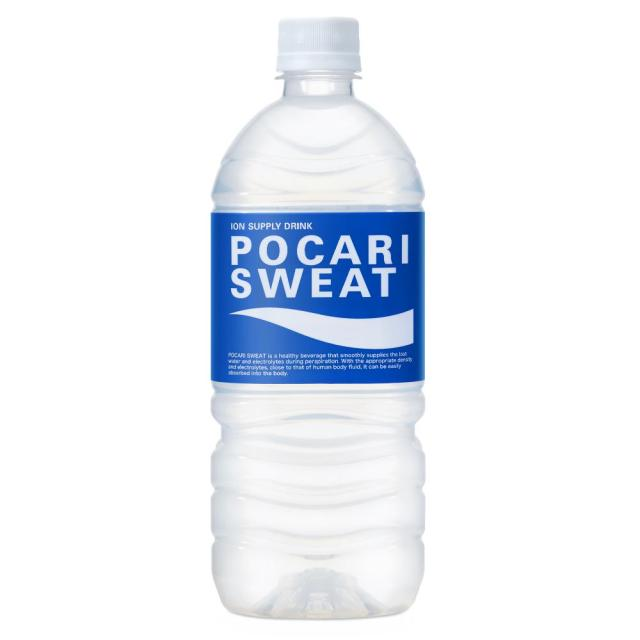bottle: (210, 9, 434, 630)
